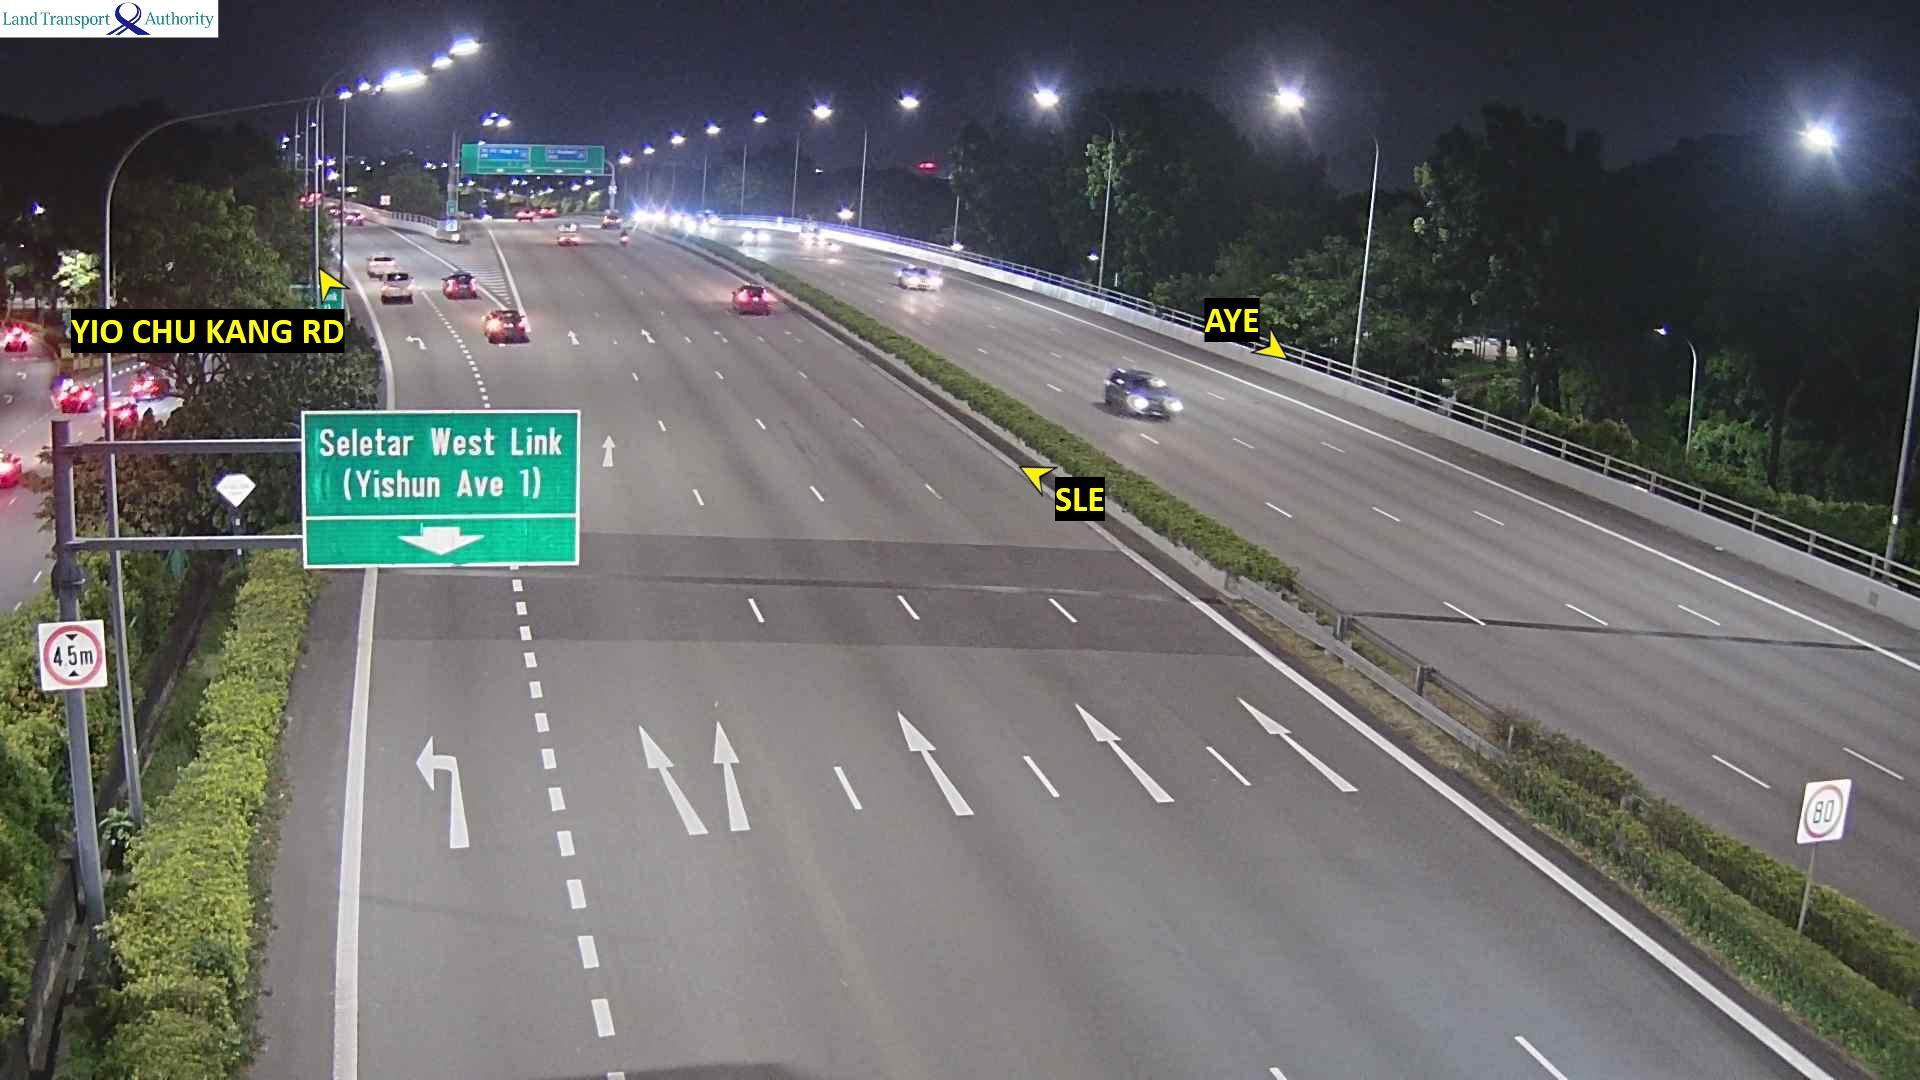incoming: (1121, 375, 1182, 422), (905, 266, 941, 292)
